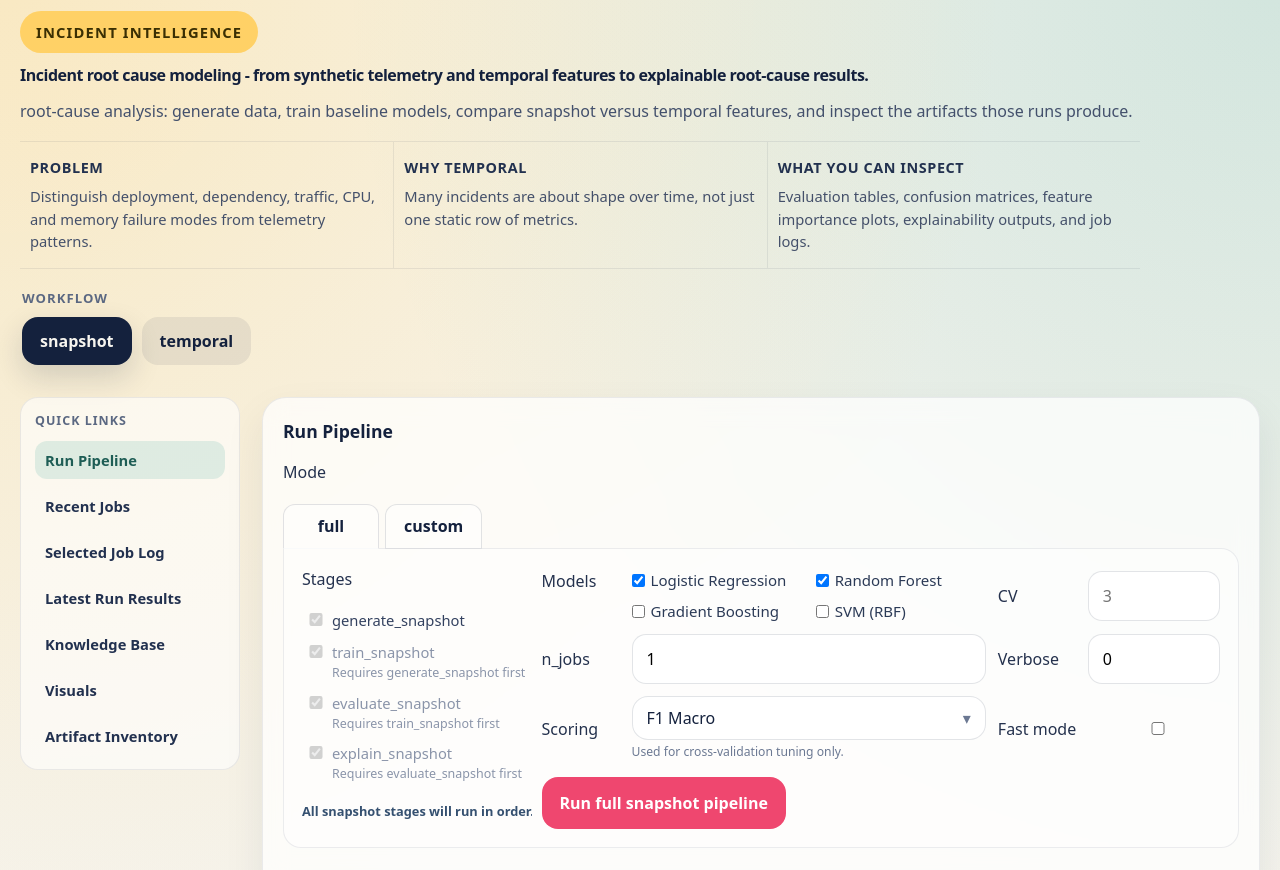
Test: App › keeps a running staged run selected and locks stage continuation until it finishes
The width and height of the screenshot is (1280, 870).
Click the button "temporal".
click(196, 341)  # box left=142, top=317, right=251, bottom=365
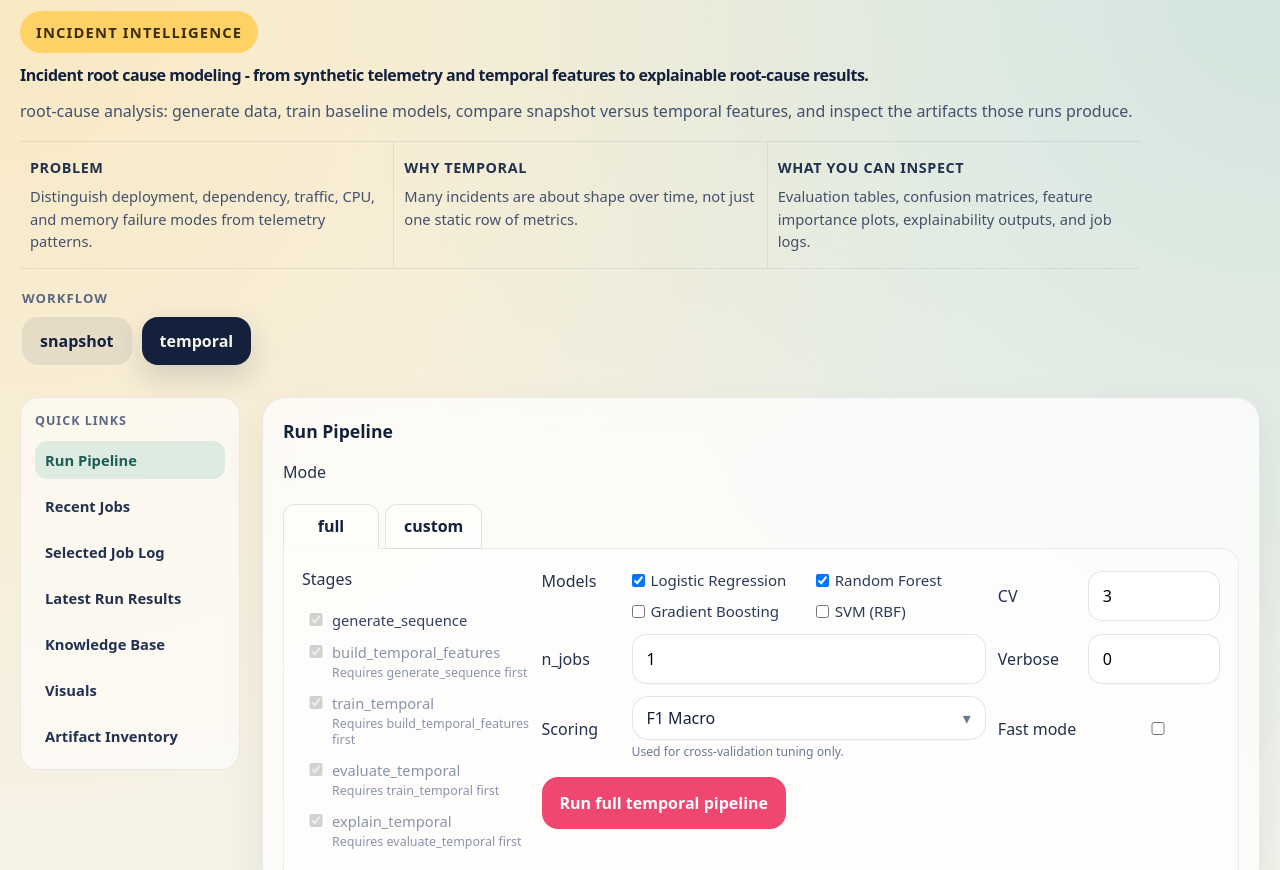
Click the button "custom".
click(434, 527)  # box left=385, top=504, right=482, bottom=549
(page scrolled)
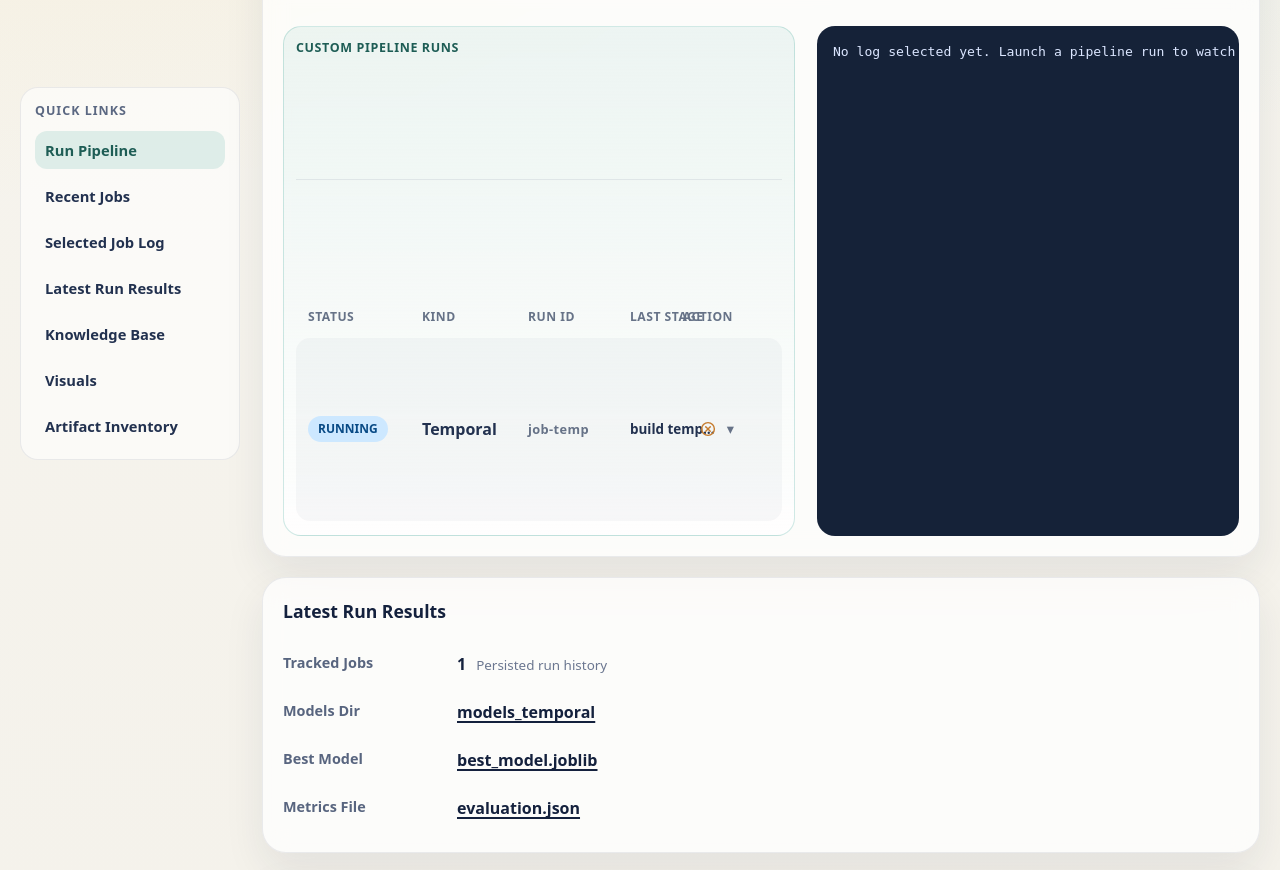
Click the button "job-temp".
click(472, 429)  # box left=308, top=416, right=636, bottom=442
(page scrolled)
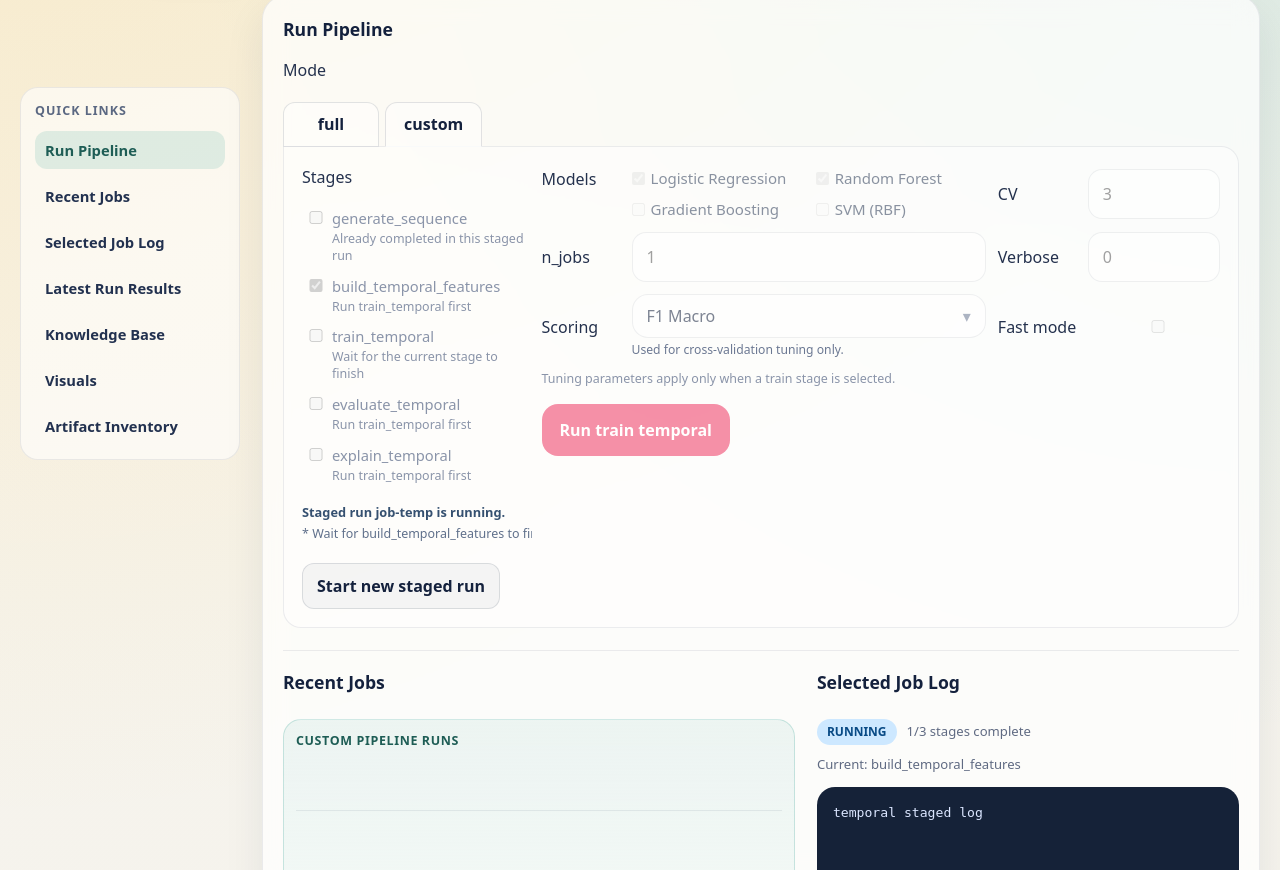
Check: the text "Staged run job-temp is running." is shown, box left=302, top=504, right=532, bottom=522
Check: the text "Wait for build_temporal_features to finish before continuing" is shown, box left=312, top=525, right=820, bottom=542
Check: the button "Start new staged run" is shown, box left=302, top=562, right=500, bottom=608
